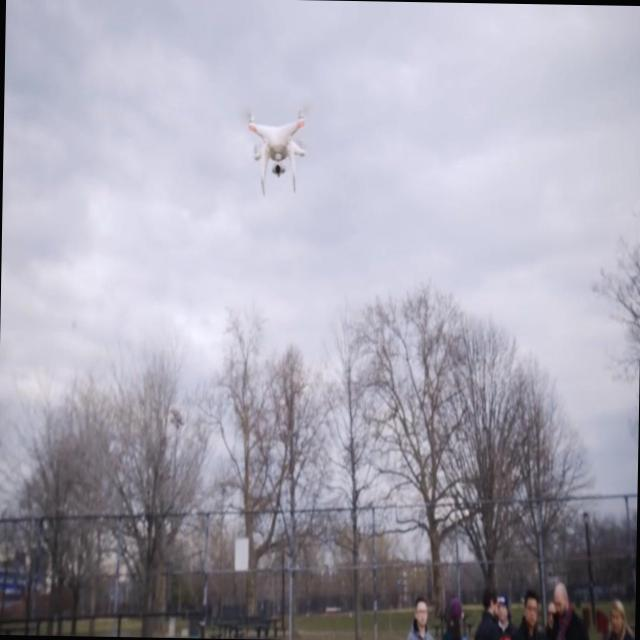drone: (248, 104, 308, 198)
